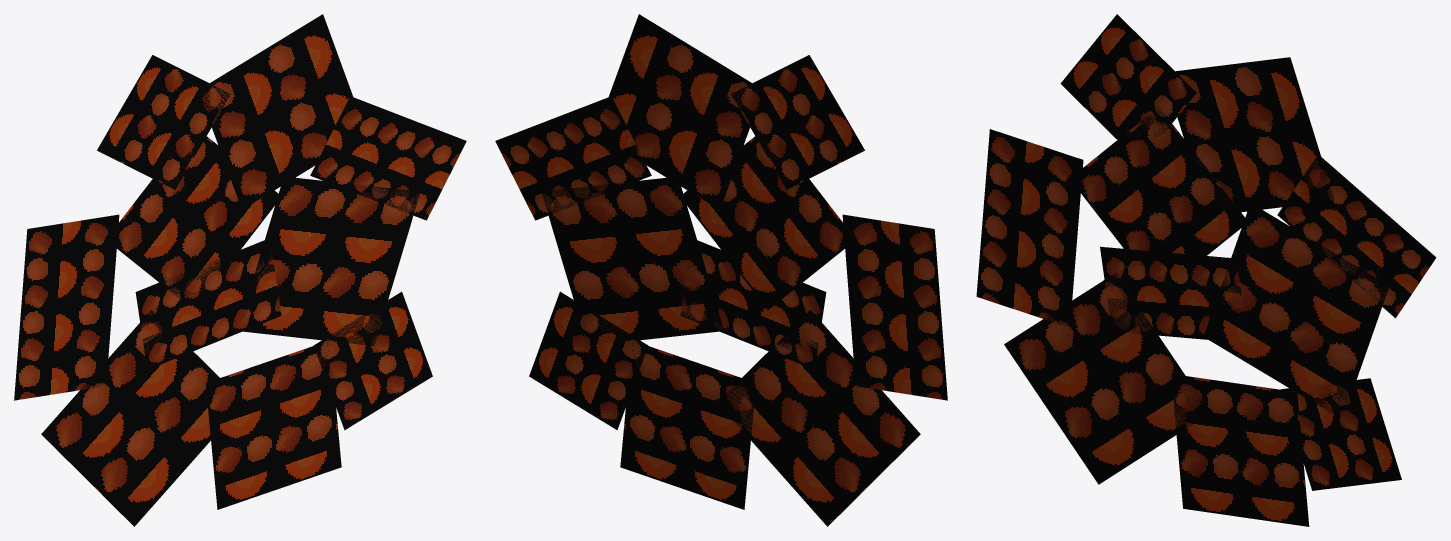
3 renders of one model, left to right at view 1: azimuth 30°, elevation 25°; view 2: azimuth 150°, elevation 25°; view 3: azimuth 330°, elevation 25°, orthographic.
Visible parts, largest first — view 1: ef_632; view 2: ef_632; view 3: ef_632.
Part boxes in pixels (x1,y1,x2,y2): ef_632: [14, 14, 466, 526]; ef_632: [495, 14, 947, 526]; ef_632: [976, 14, 1436, 526].
Size of the model in its own units: 0.7335 by 0.7293 by 0.
1 material, 1 textured.
